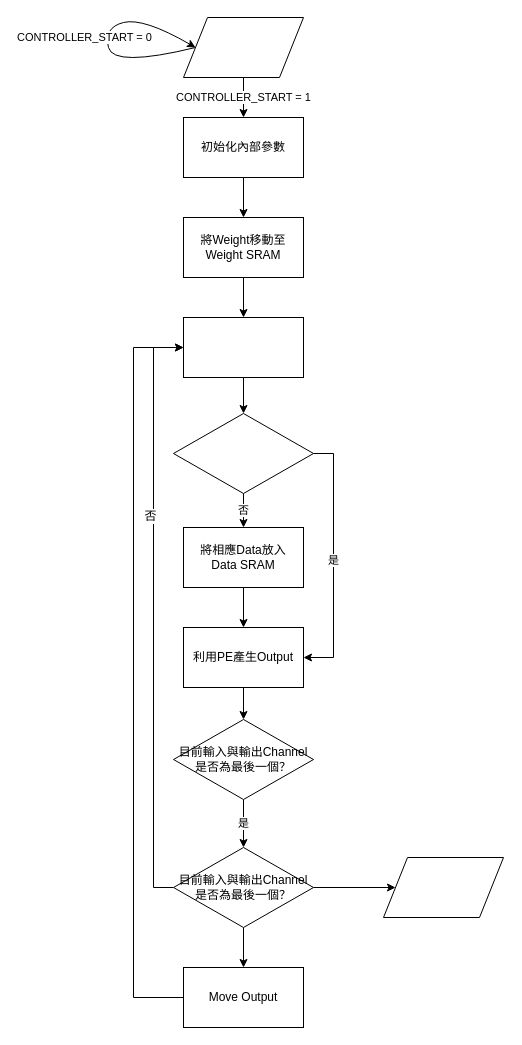
Some shapes in this 522 by 1045 pixel diagram are drawn without their labels. The shapes that lost their labels are listed below. From the top down, each one's centre as x and y in pixels, then its label:
the point at 243,47: 起始狀態
the point at 243,347: 設定Weight
the point at 243,453: 目前的input是否 已經在Input SRAM
the point at 443,887: 結束並拉起對 CPU的Interrupt
